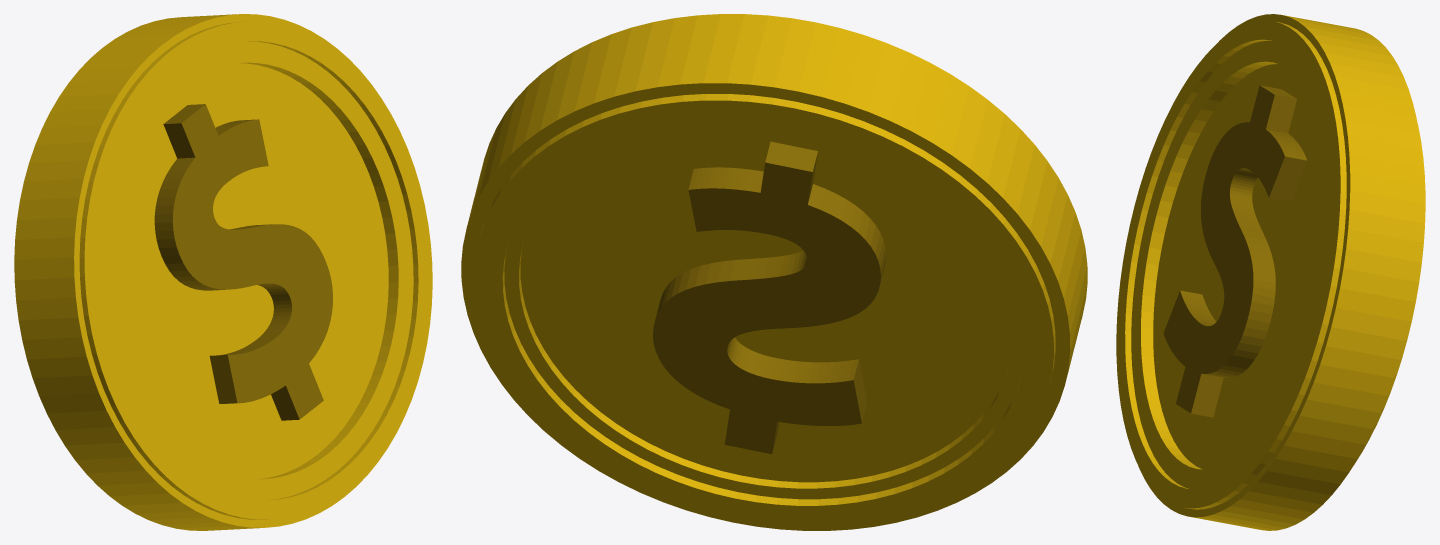
Rendered from Coins2.glb.
3 views of the same model, side by side, from view 1: azimuth 30°, elevation 25°; view 2: azimuth 150°, elevation 25°; view 3: azimuth 270°, elevation 25° (orthographic). The views are drawn at different scales.
Visible parts, largest first — view 1: Cylinder, Curve; view 2: Cylinder, Curve.001; view 3: Cylinder, Curve.
Boxes of the visible parts, x1=… form: Cylinder: x1=14, y1=14, x2=432, y2=530; Curve: x1=154, y1=104, x2=332, y2=420; Cylinder: x1=461, y1=14, x2=1087, y2=530; Curve.001: x1=653, y1=141, x2=886, y2=454; Cylinder: x1=1116, y1=14, x2=1425, y2=530; Curve: x1=1163, y1=85, x2=1307, y2=417.
Size of the model in its own units: 2 by 2 by 1.21.
